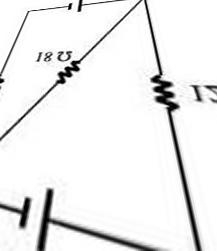resistor: (141, 61, 180, 125), (46, 57, 88, 88)
